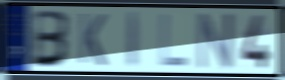4: (240, 13, 272, 71)
B: (30, 8, 72, 69)
I: (127, 11, 142, 70)
K: (78, 11, 108, 69)
L: (159, 12, 190, 69)
N: (196, 10, 236, 72)
